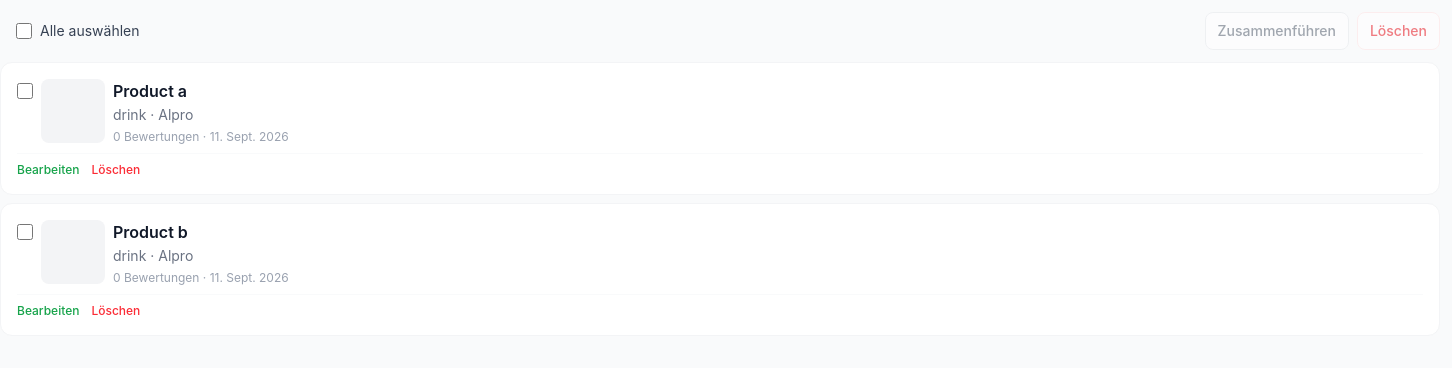
AdminProductList › given one product is selected › enables the delete button and disables the merge button
This screenshot has width=1452, height=368.
Click the checkbox named "Product a auswählen" at (25, 91), box [17,83,33,99]
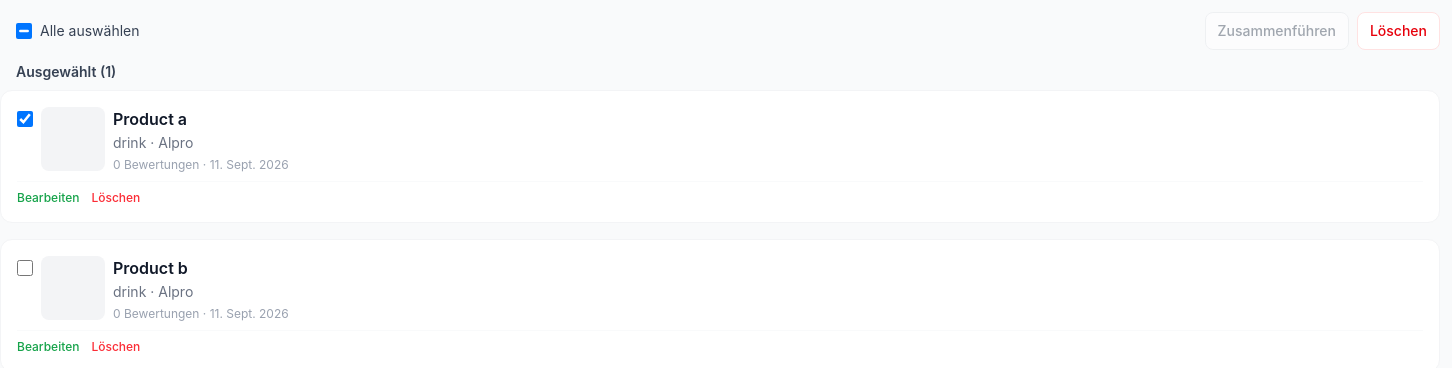
Expected: the button with aria-label "Produkte zusammenführen" is disabled, [1205,12,1349,50]
Result: the button with aria-label "Ausgewählte Produkte löschen" is enabled at [1357,12,1440,50]
